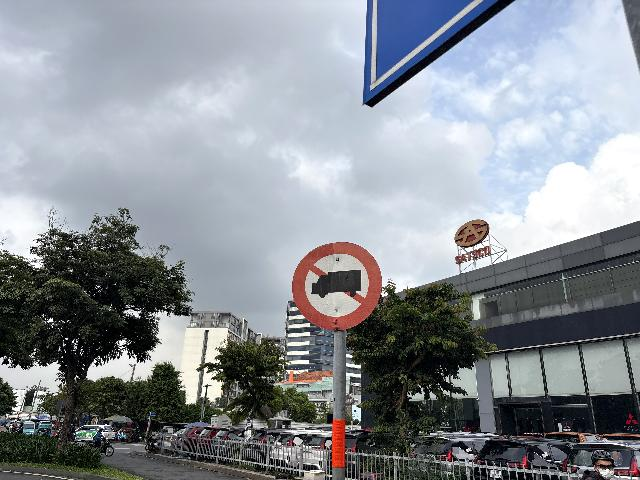cam-xe-tai: (292, 242, 382, 331)
